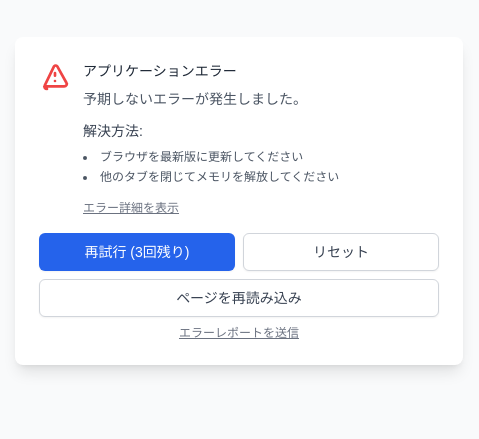
it: ErrorBoundary › エラー詳細の表示/非表示を切り替えできる
Click the button "エラー詳細を表示" at coordinates (131, 208), box [83,200,179,216]
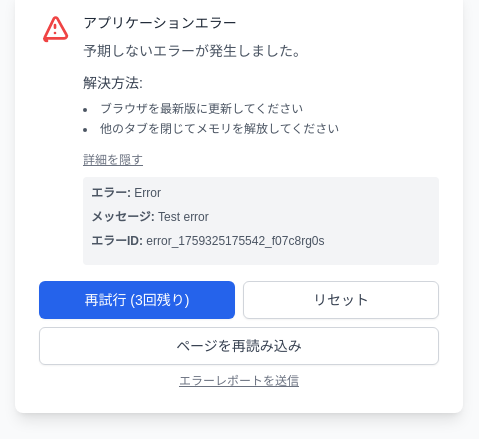
Now the button "詳細を隠す" is shown, box [83,152,143,168]
Now the text "Test error" is shown, box [158,210,209,224]
